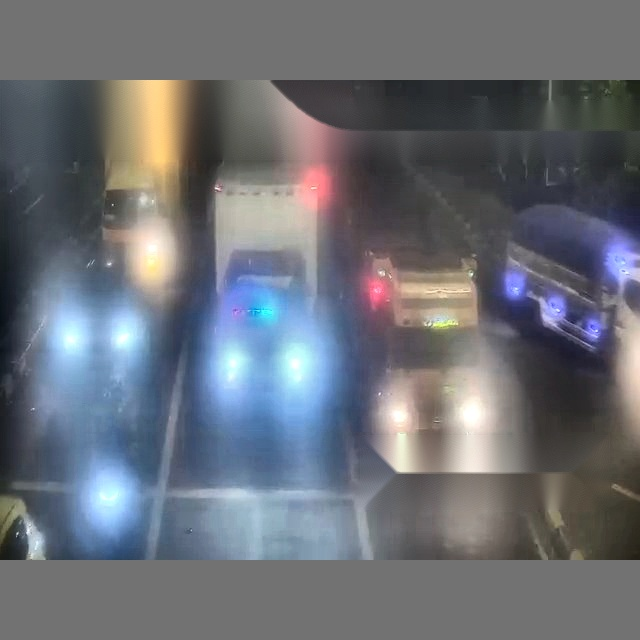Mobil: (0, 495, 44, 559)
Truk: (102, 78, 193, 306), (501, 204, 637, 356), (615, 262, 640, 458)
